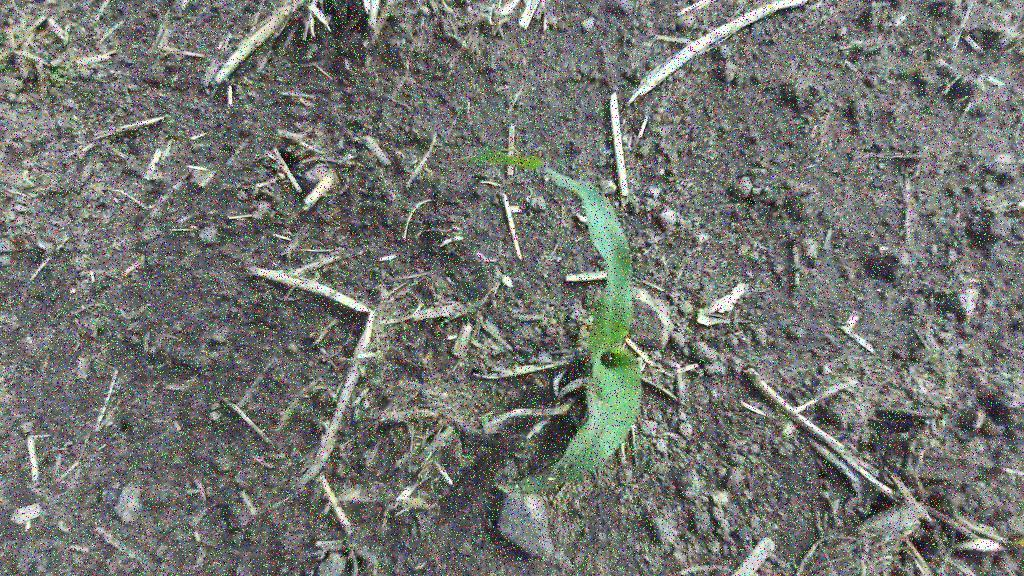BroWeed: (49, 70, 66, 85), (477, 413, 491, 430), (938, 410, 951, 428), (48, 75, 62, 90), (54, 67, 67, 77), (368, 264, 382, 273), (173, 128, 183, 140), (0, 58, 9, 70), (274, 452, 286, 461), (0, 29, 9, 39), (94, 302, 103, 308), (166, 117, 174, 123)
Maize: (456, 134, 656, 496)
